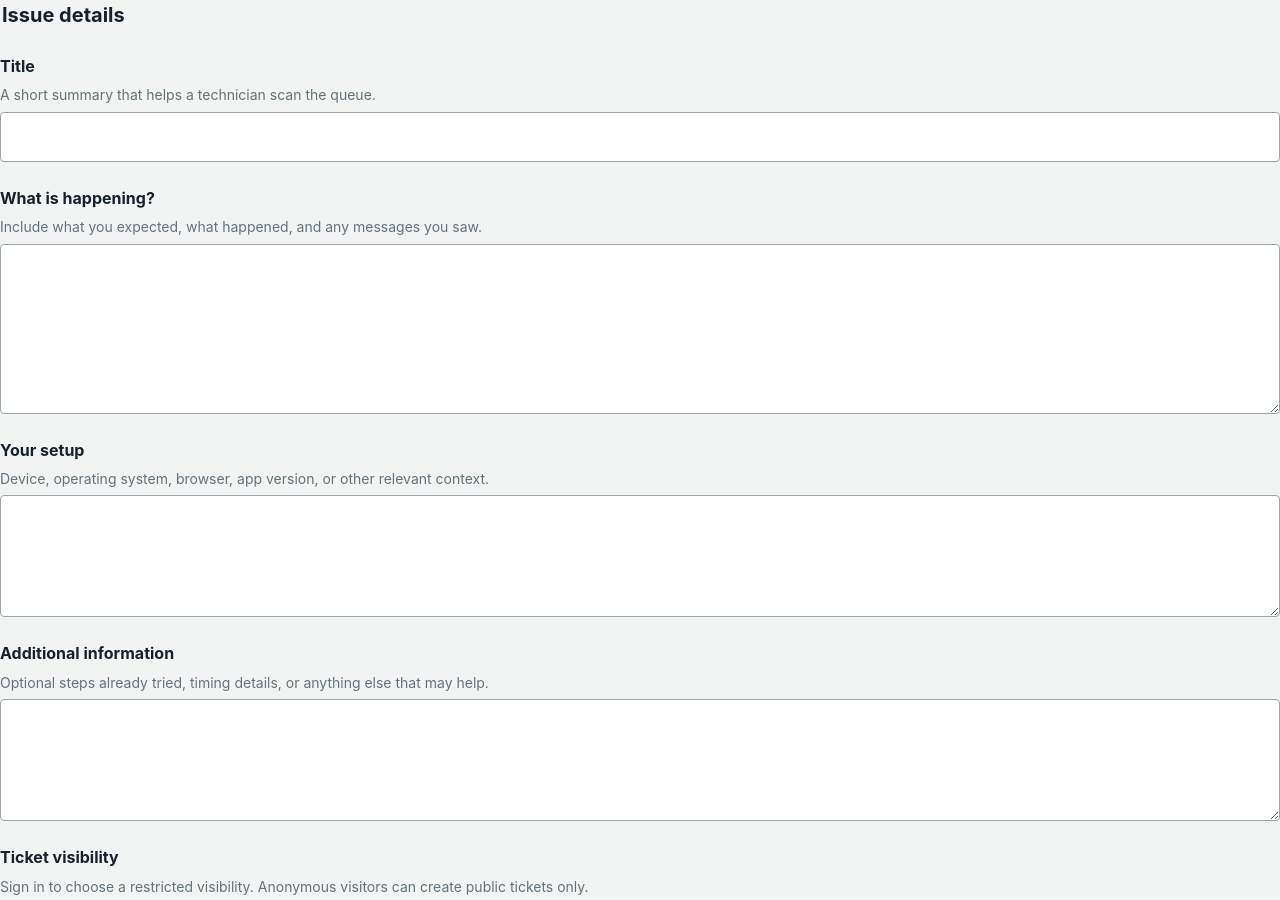
TicketForm › submits the approved ticket fields and shows confirmation
The image size is (1280, 900).
Step 1. Type "Laptop will not start" into the field labelled "Title" → (640, 137), box [0,112,1279,162]
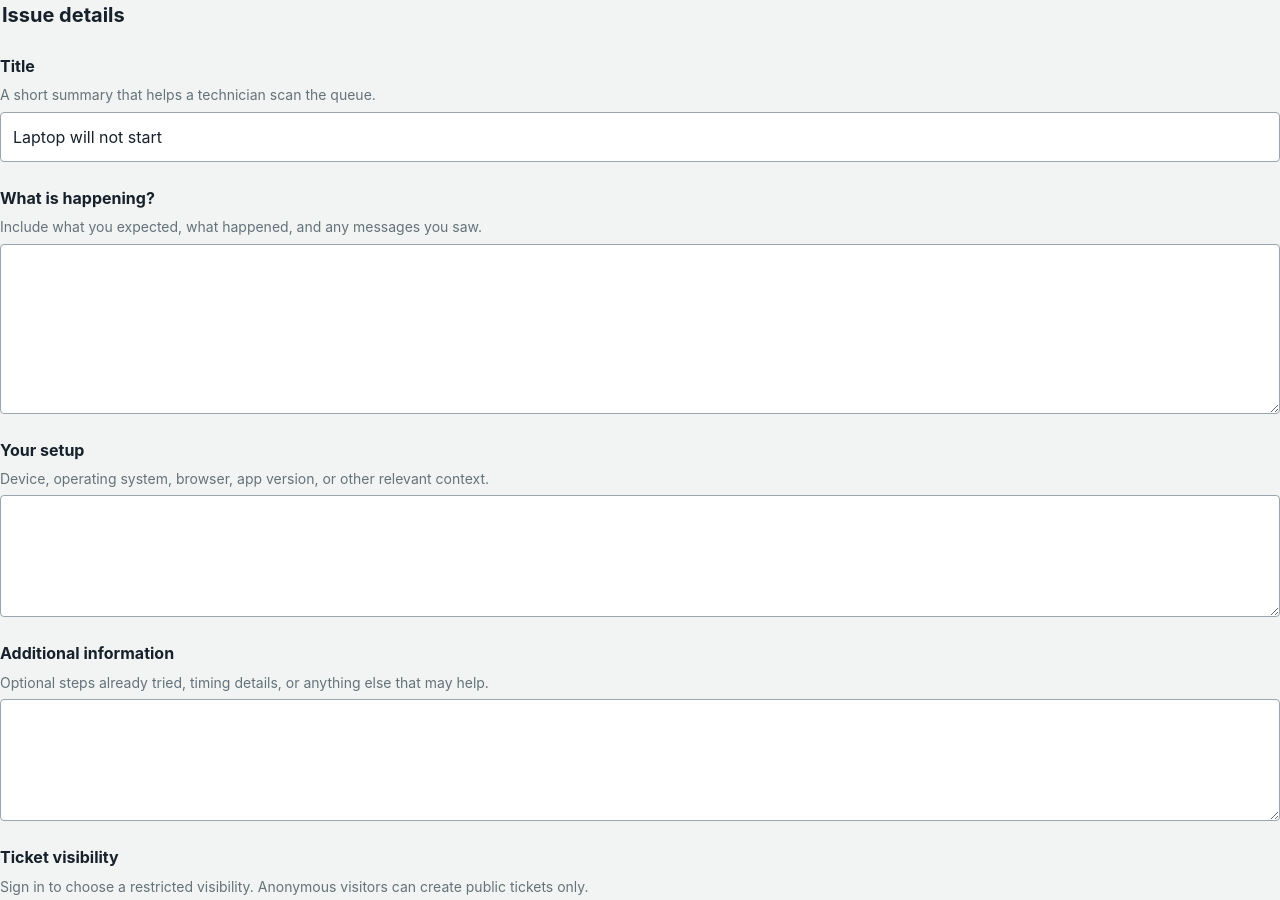
Step 2. Type "The power light flashes once." into the text box labelled "What is happening?" → (640, 329), box [0,244,1279,414]
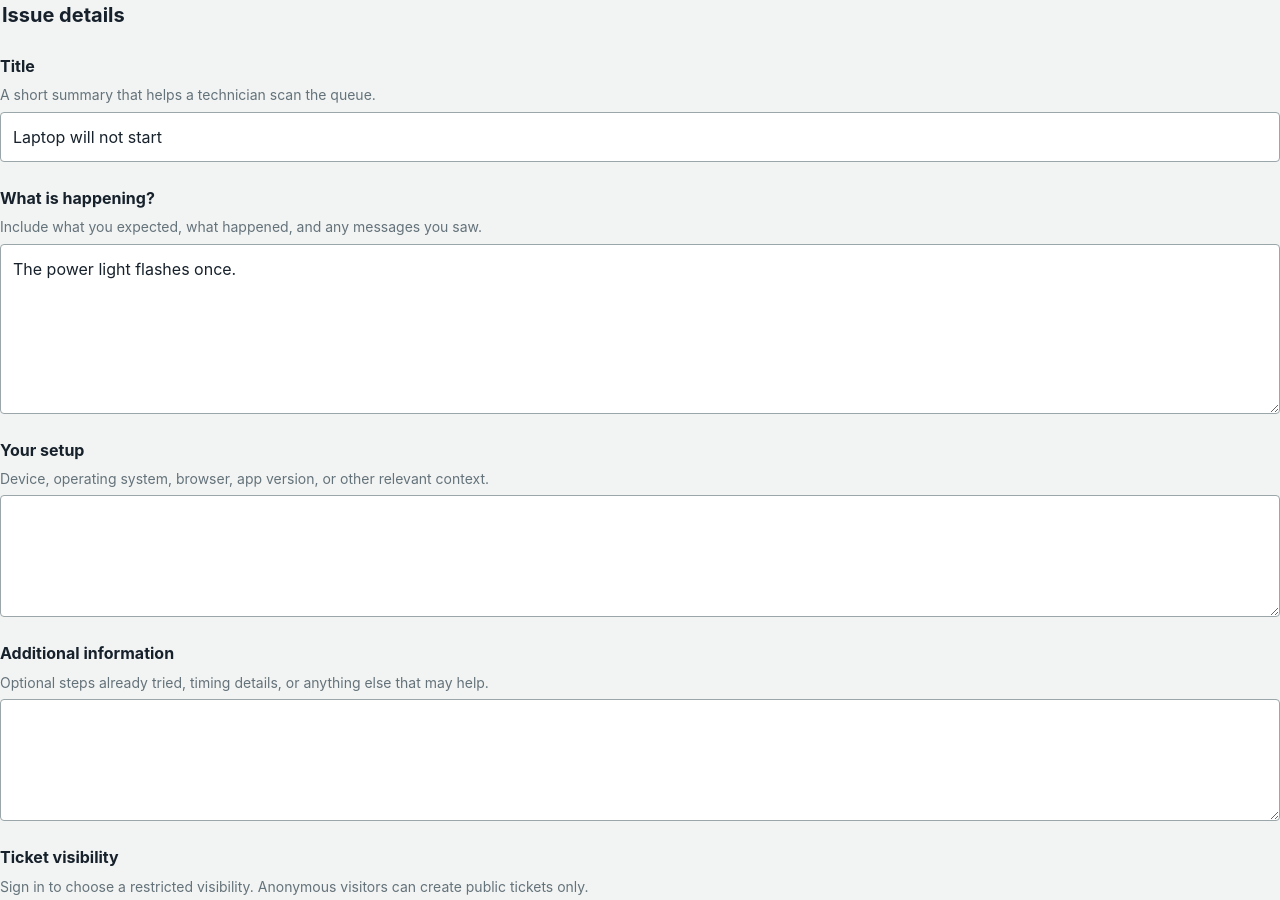
Step 3. Type "Framework Laptop 13, Fedora 42" into the text box labelled "Your setup" → (640, 556), box [0,495,1279,617]
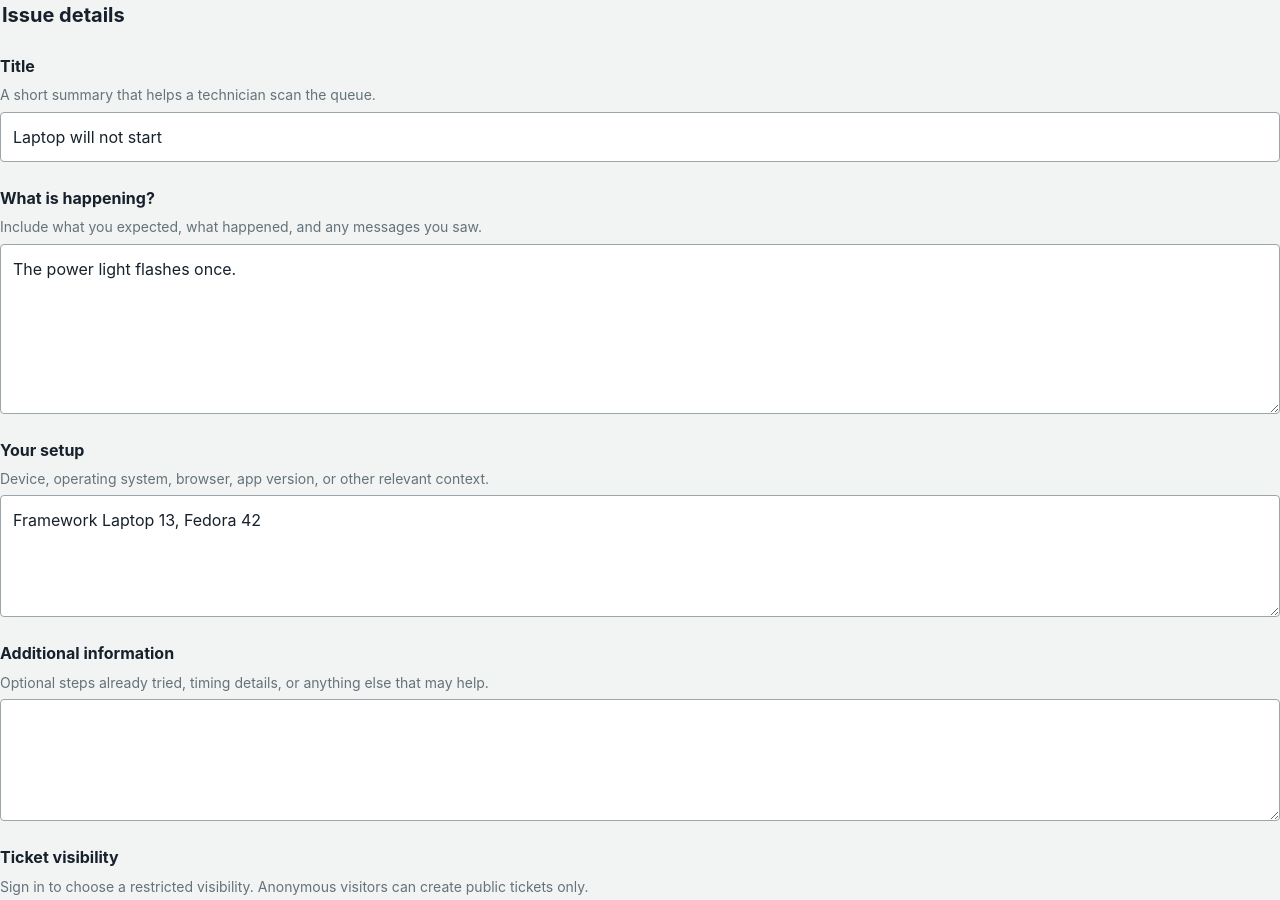
Step 4. Type "Started after an update." into the text box labelled "Additional information" → (640, 760), box [0,699,1279,821]
(page scrolled)
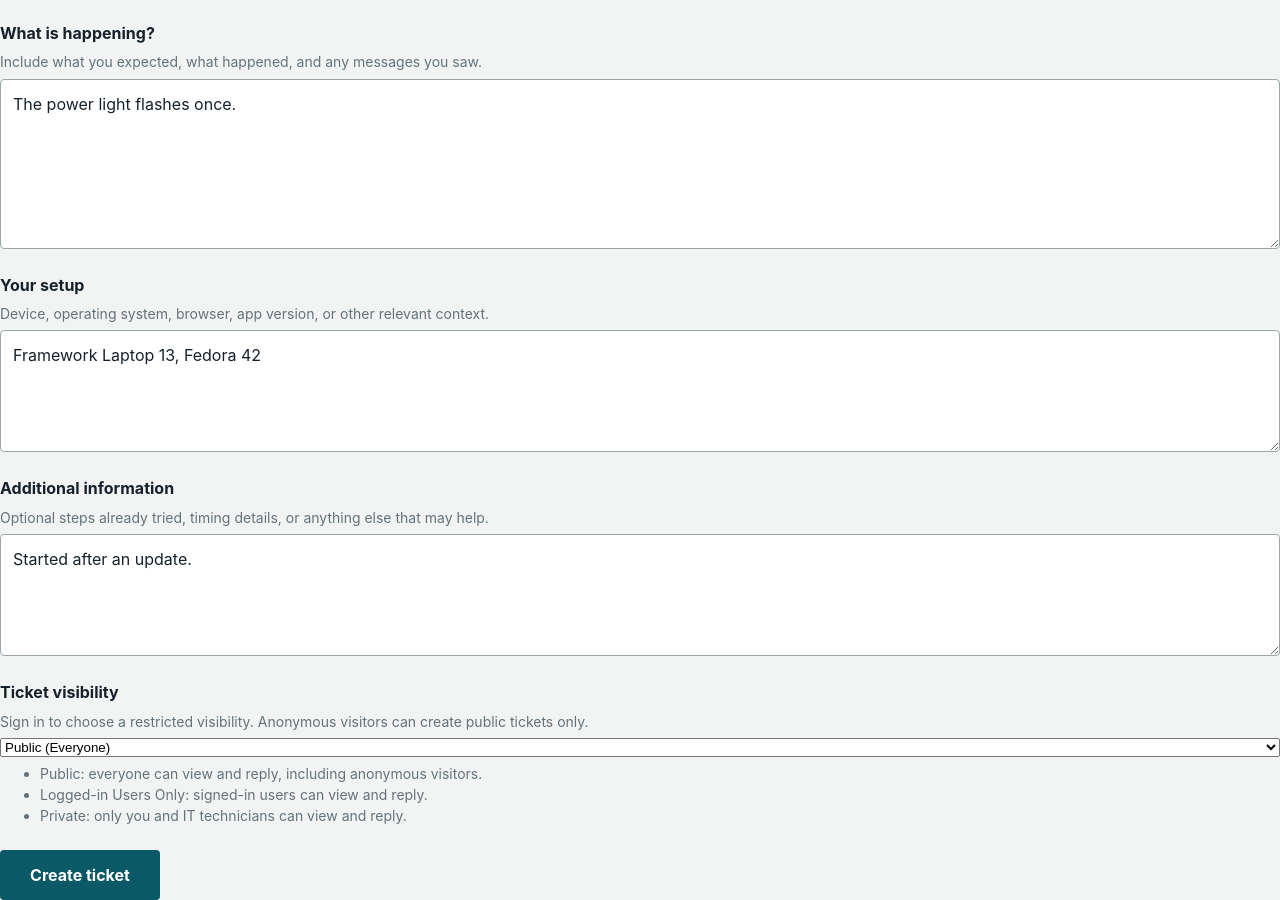
Step 5. Click the button "Create ticket" → (80, 875), box [0,850,160,899]
(page scrolled)
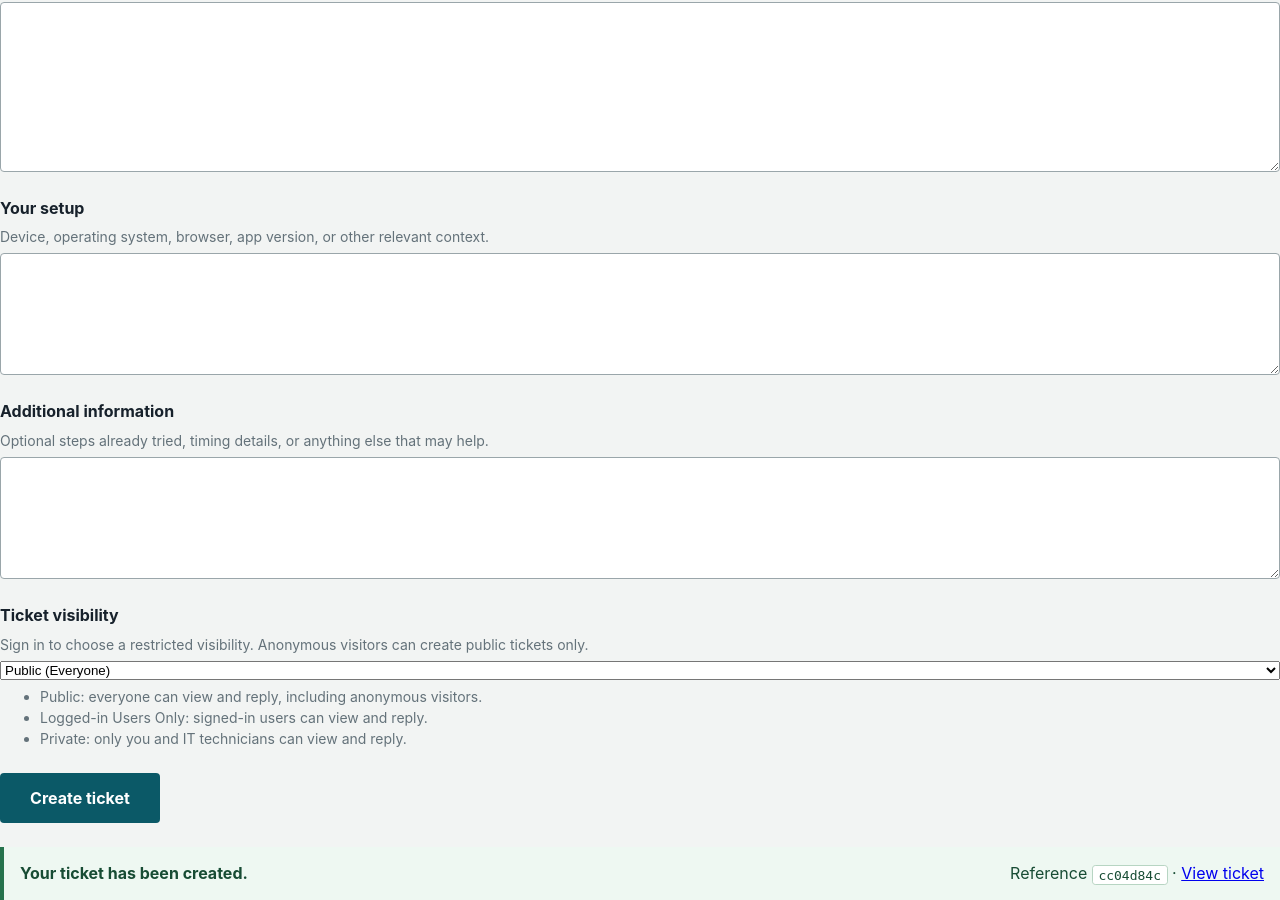
Now the text "Your ticket has been created." is shown, box [20,861,248,885]
Now the text "cc04d84c" is shown, box [1092,865,1168,885]
